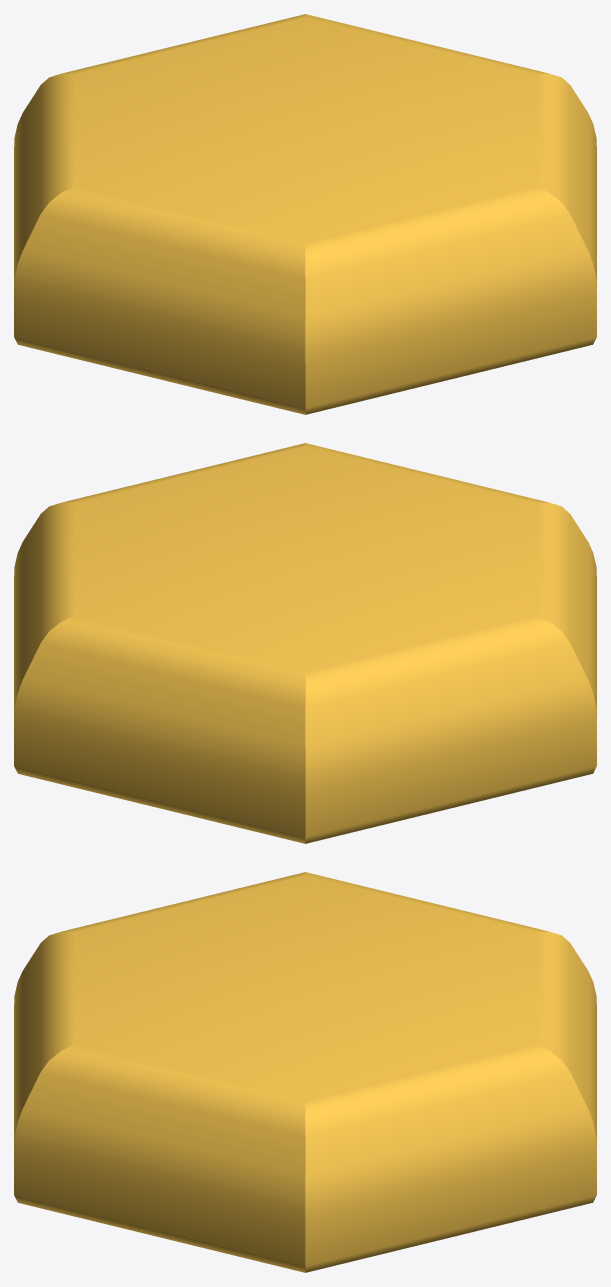
Rendered from GoldTile.glb.
3 views of the same model, one above another, from view 1: azimuth 30°, elevation 25°; view 2: azimuth 150°, elevation 25°; view 3: azimuth 270°, elevation 25° (orthographic).
Visible parts, largest first — view 1: BaseTile; view 2: BaseTile; view 3: BaseTile.
Boxes of the visible parts, x1=… form: BaseTile: x1=14, y1=14, x2=596, y2=414; BaseTile: x1=14, y1=443, x2=596, y2=843; BaseTile: x1=14, y1=872, x2=596, y2=1272.
Bounding box in the file's own units: 1.96 × 0.4748 × 1.7.
